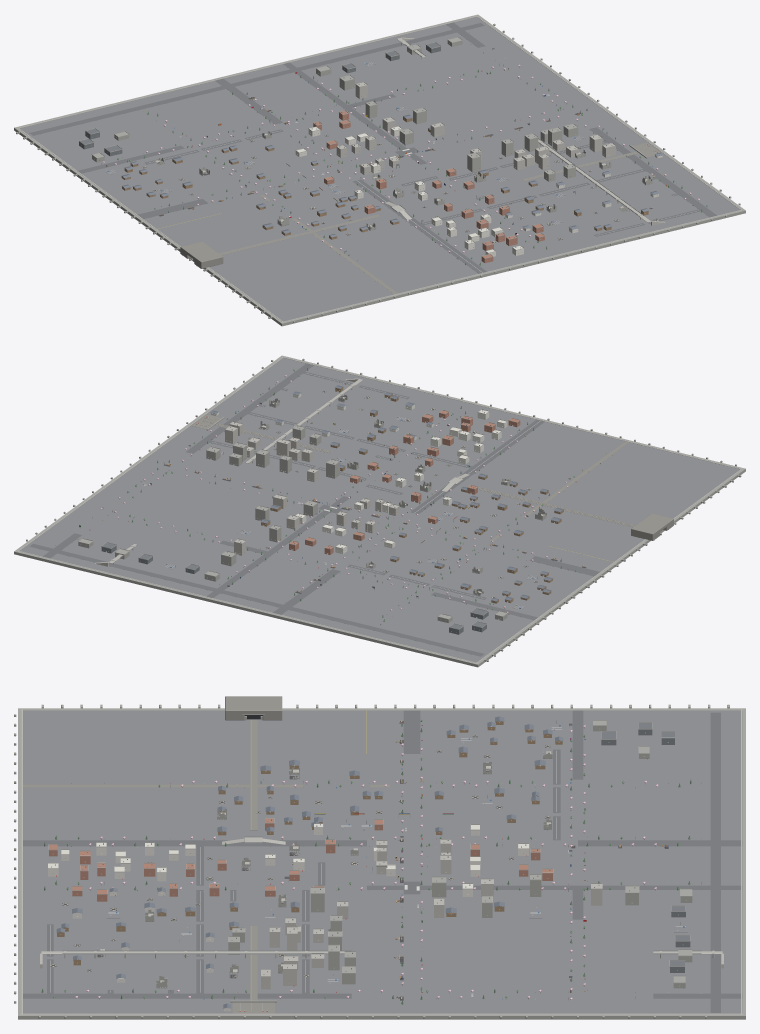
Rendered from zone_9.glb.
The picture shows the model from 3 angles, top to bottom: view 1: azimuth 30°, elevation 25°; view 2: azimuth 150°, elevation 25°; view 3: azimuth 270°, elevation 25°; orthographic projection. The views are drawn at different scales.
Parts seen in each view (by area): view 1: zone_akitsu_z9; view 2: zone_akitsu_z9; view 3: zone_akitsu_z9.
Boxes of the visible parts, bbox=[...] form: zone_akitsu_z9: bbox=[14, 14, 745, 326]; zone_akitsu_z9: bbox=[14, 355, 745, 667]; zone_akitsu_z9: bbox=[14, 696, 745, 1019].
Size of the model in its own units: 980 by 33.42 by 971.
Materials: 40 (6 with a texture image).
